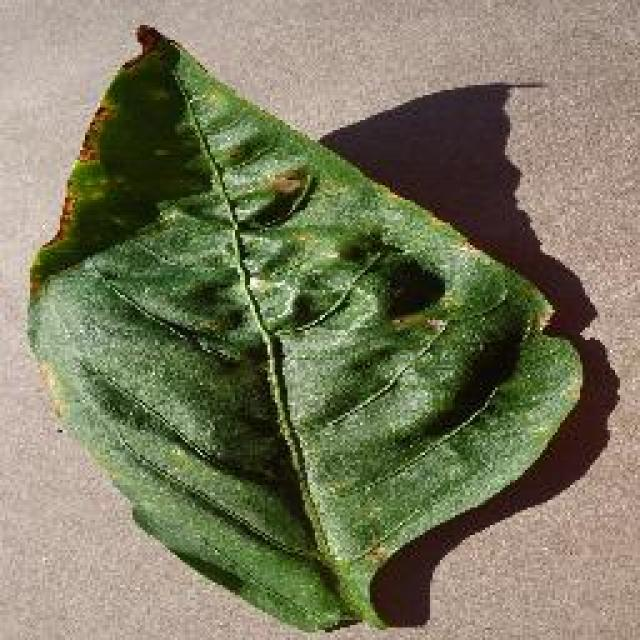Chilli_Bacterial_Spot: (22, 20, 588, 635), (243, 160, 315, 230), (378, 255, 448, 327), (265, 168, 305, 202), (130, 20, 162, 58), (332, 235, 370, 267)
